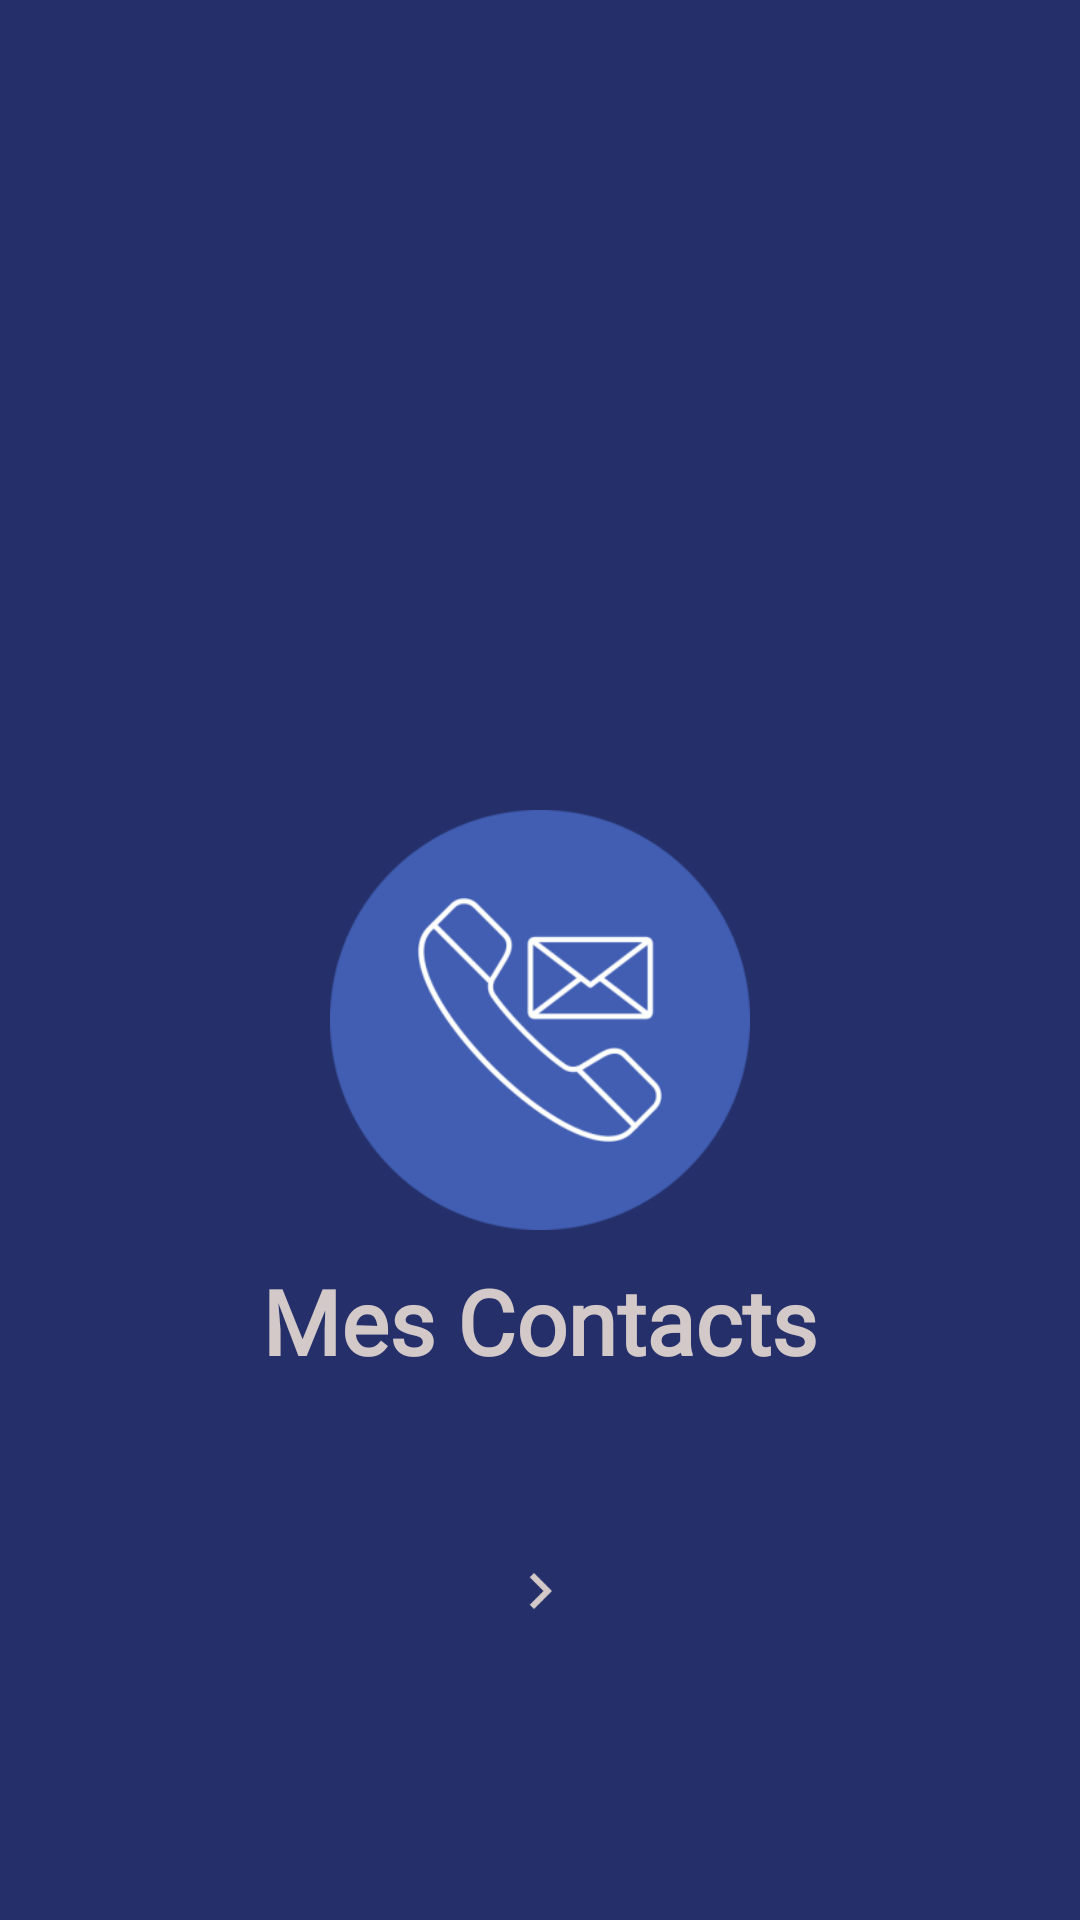

Icons on this 1080 × 1920 Android screen, each with the point to tap as (x,y):
navigate next: (541,1591)
